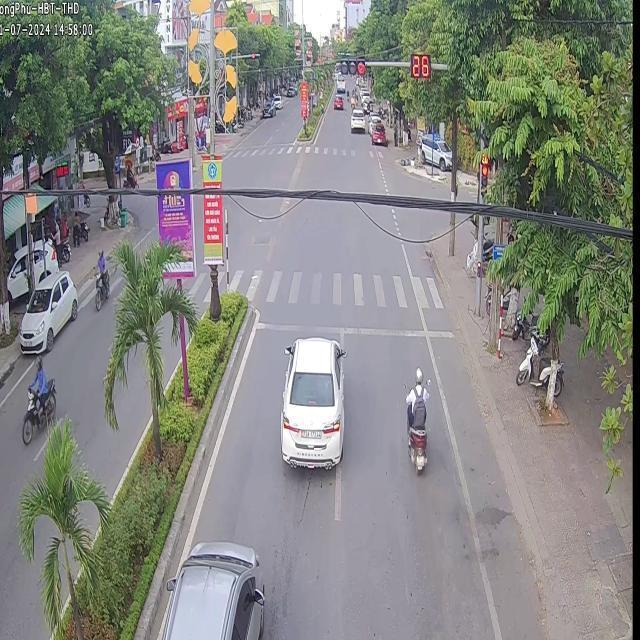car: (160, 540, 263, 638), (279, 336, 344, 467), (17, 269, 77, 351)
motobike: (404, 367, 427, 471), (20, 378, 54, 442)
red_light: (409, 51, 431, 79), (339, 60, 363, 75), (480, 153, 487, 195)
stop_line: (251, 319, 453, 337)
